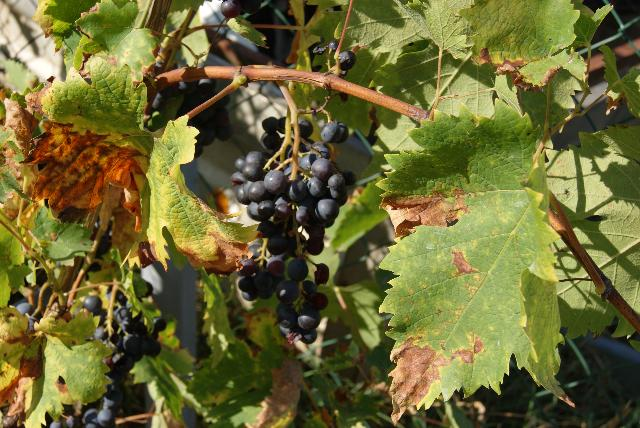grapes: (230, 118, 356, 345), (82, 291, 166, 428)
